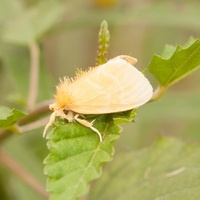insect: (54, 55, 152, 113)
